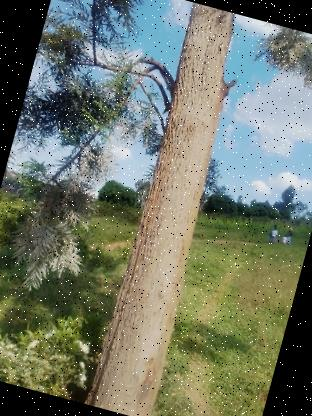tree: (72, 0, 271, 416)
